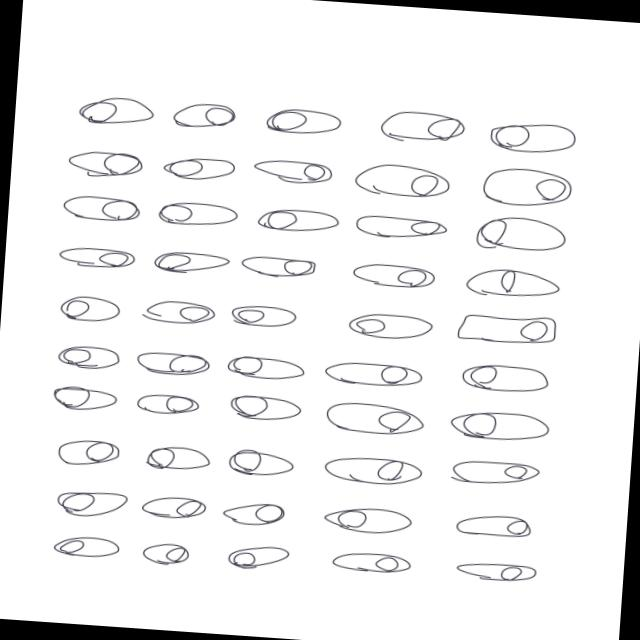Toggle: (451, 308, 589, 354), (439, 402, 571, 450), (317, 535, 423, 591), (471, 159, 582, 211), (450, 353, 566, 402), (341, 154, 457, 203), (318, 392, 436, 440), (470, 208, 575, 258), (324, 449, 434, 494), (445, 552, 550, 598), (363, 104, 468, 150), (63, 83, 157, 134), (447, 448, 544, 496), (338, 304, 441, 348), (446, 502, 544, 548), (484, 114, 582, 160), (58, 136, 148, 186), (48, 424, 132, 476), (30, 232, 142, 271), (459, 260, 560, 302), (143, 192, 246, 233), (48, 368, 127, 421), (228, 238, 322, 282), (58, 183, 144, 231), (162, 94, 244, 144), (131, 338, 218, 384), (341, 253, 438, 294), (318, 352, 424, 389), (314, 500, 416, 538), (224, 383, 304, 431), (220, 439, 298, 488), (130, 386, 214, 431), (351, 210, 452, 247), (140, 291, 224, 335), (225, 344, 312, 386), (45, 526, 126, 569), (138, 435, 212, 482), (246, 150, 336, 187), (148, 240, 234, 278), (254, 202, 344, 238), (162, 148, 240, 189), (45, 484, 135, 518), (264, 104, 344, 142), (137, 486, 215, 524), (215, 494, 295, 531), (134, 532, 198, 576), (48, 334, 126, 370), (224, 300, 300, 336), (56, 289, 128, 326), (218, 536, 290, 572)
